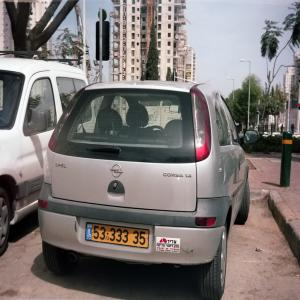Vehicle-registration-plate: (78, 224, 164, 264)
